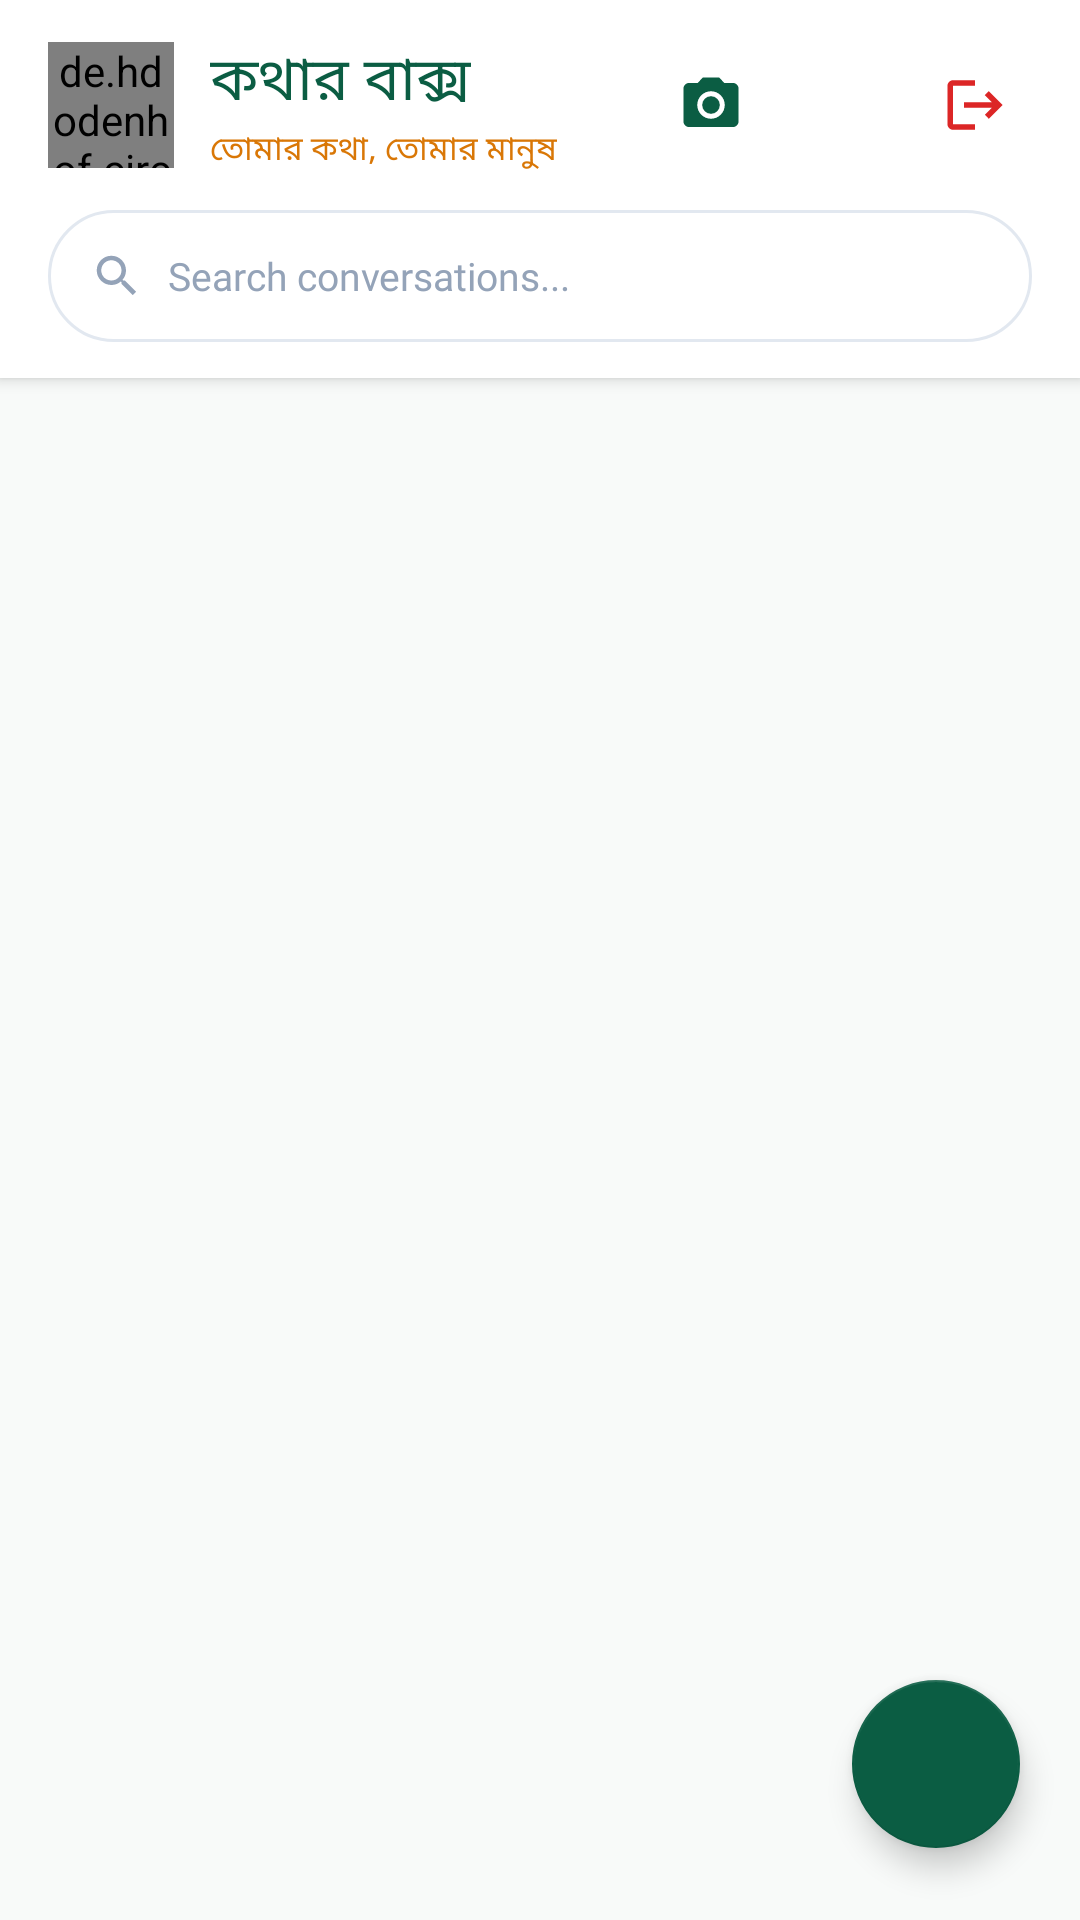

Named icons in this screenshot (1080 × 1920) and their bounding boxes, (x1, y1, x2, y2):
camera: (683, 77, 739, 127)
